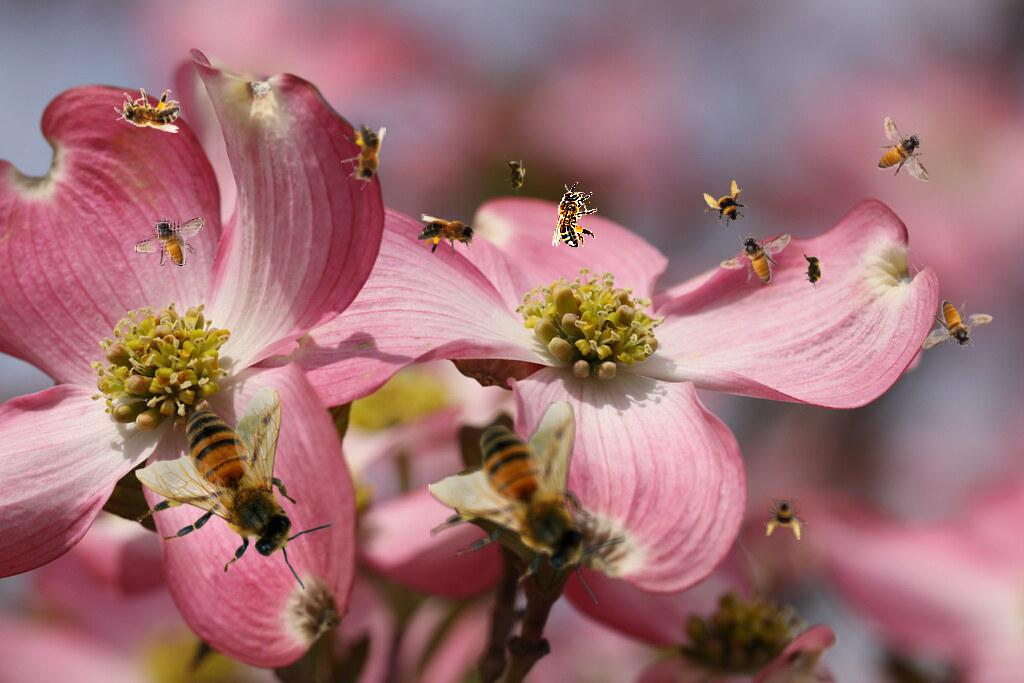Bee: (135, 386, 334, 590), (428, 400, 627, 604), (869, 111, 931, 190), (696, 176, 756, 236), (720, 233, 791, 283), (922, 300, 993, 350), (134, 217, 205, 267), (552, 182, 597, 248), (341, 124, 386, 190), (114, 88, 180, 133), (418, 214, 484, 259), (764, 496, 808, 540), (802, 250, 824, 290), (504, 156, 526, 196)
